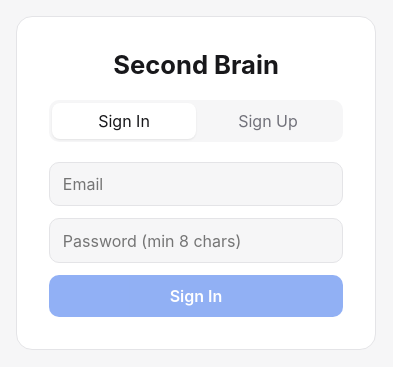
Test: LoginPage › keeps submit disabled until email + an 8-char password are present
Expected: the 2nd button "Sign In" is disabled, [49,275,343,317]
Type "a@b.com" into the field with placeholder "Email" at (196, 184), box [49,162,343,206]
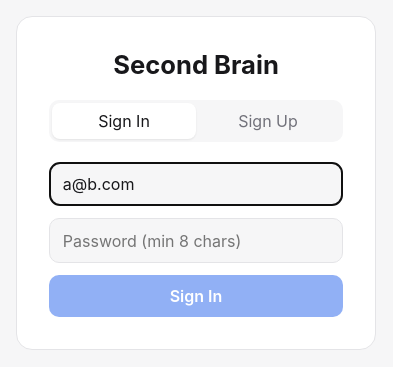
Type "short" into the password field with placeholder "Password (min 8 chars)" at (196, 240), box [49,218,343,263]
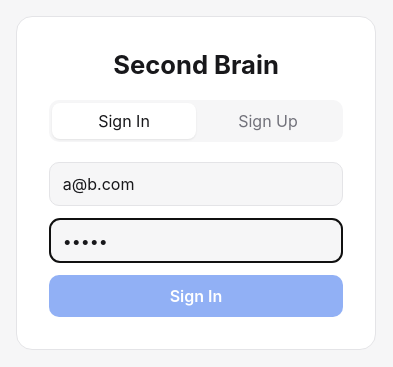
Expected: the 2nd button "Sign In" is disabled, [49,275,343,317]
Type "er12" into the password field with placeholder "Password (min 8 chars)" at (196, 240), box [49,218,343,263]
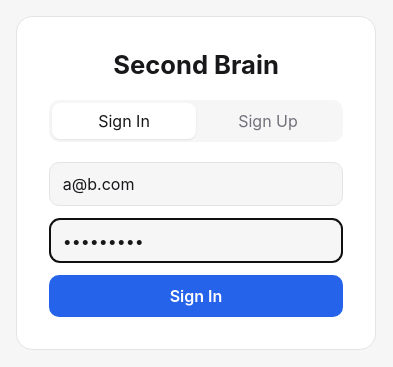
Expected: the 2nd button "Sign In" is enabled, [49,275,343,317]
